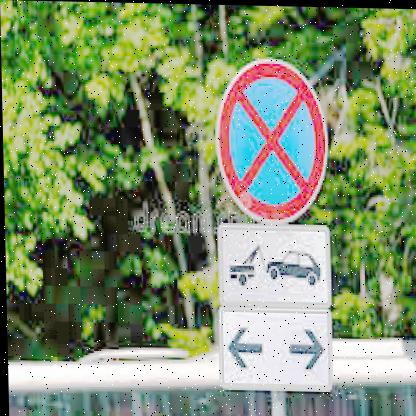No stopping: (214, 51, 325, 224)
